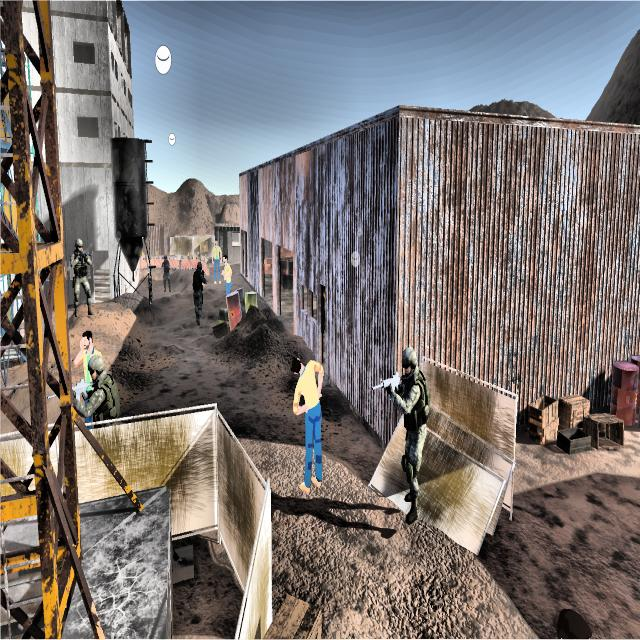bad: (382, 341, 432, 531), (80, 353, 122, 428), (68, 230, 99, 326), (189, 254, 208, 327), (160, 249, 172, 292)
good: (286, 340, 334, 498), (75, 323, 102, 378), (220, 246, 236, 297), (210, 233, 223, 283)
